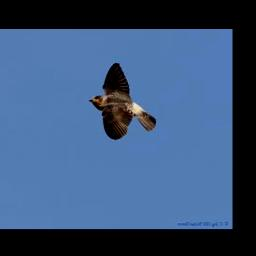Swallow: (87, 61, 158, 141)
